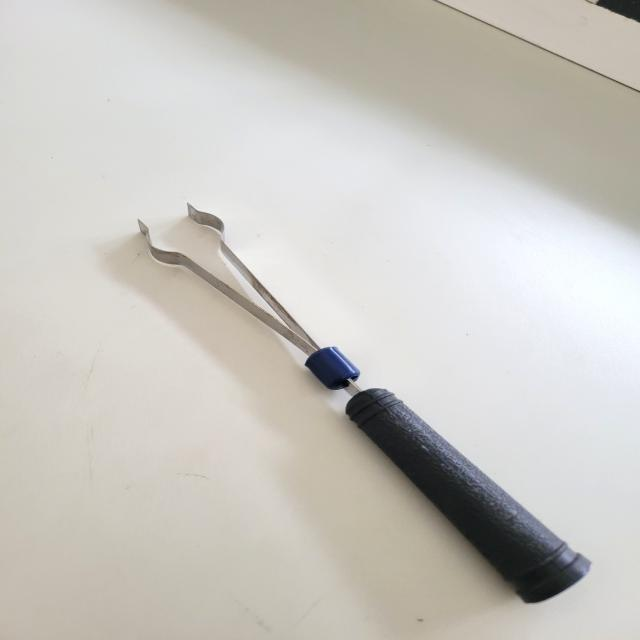TestTube_Holder: (113, 179, 595, 612)
